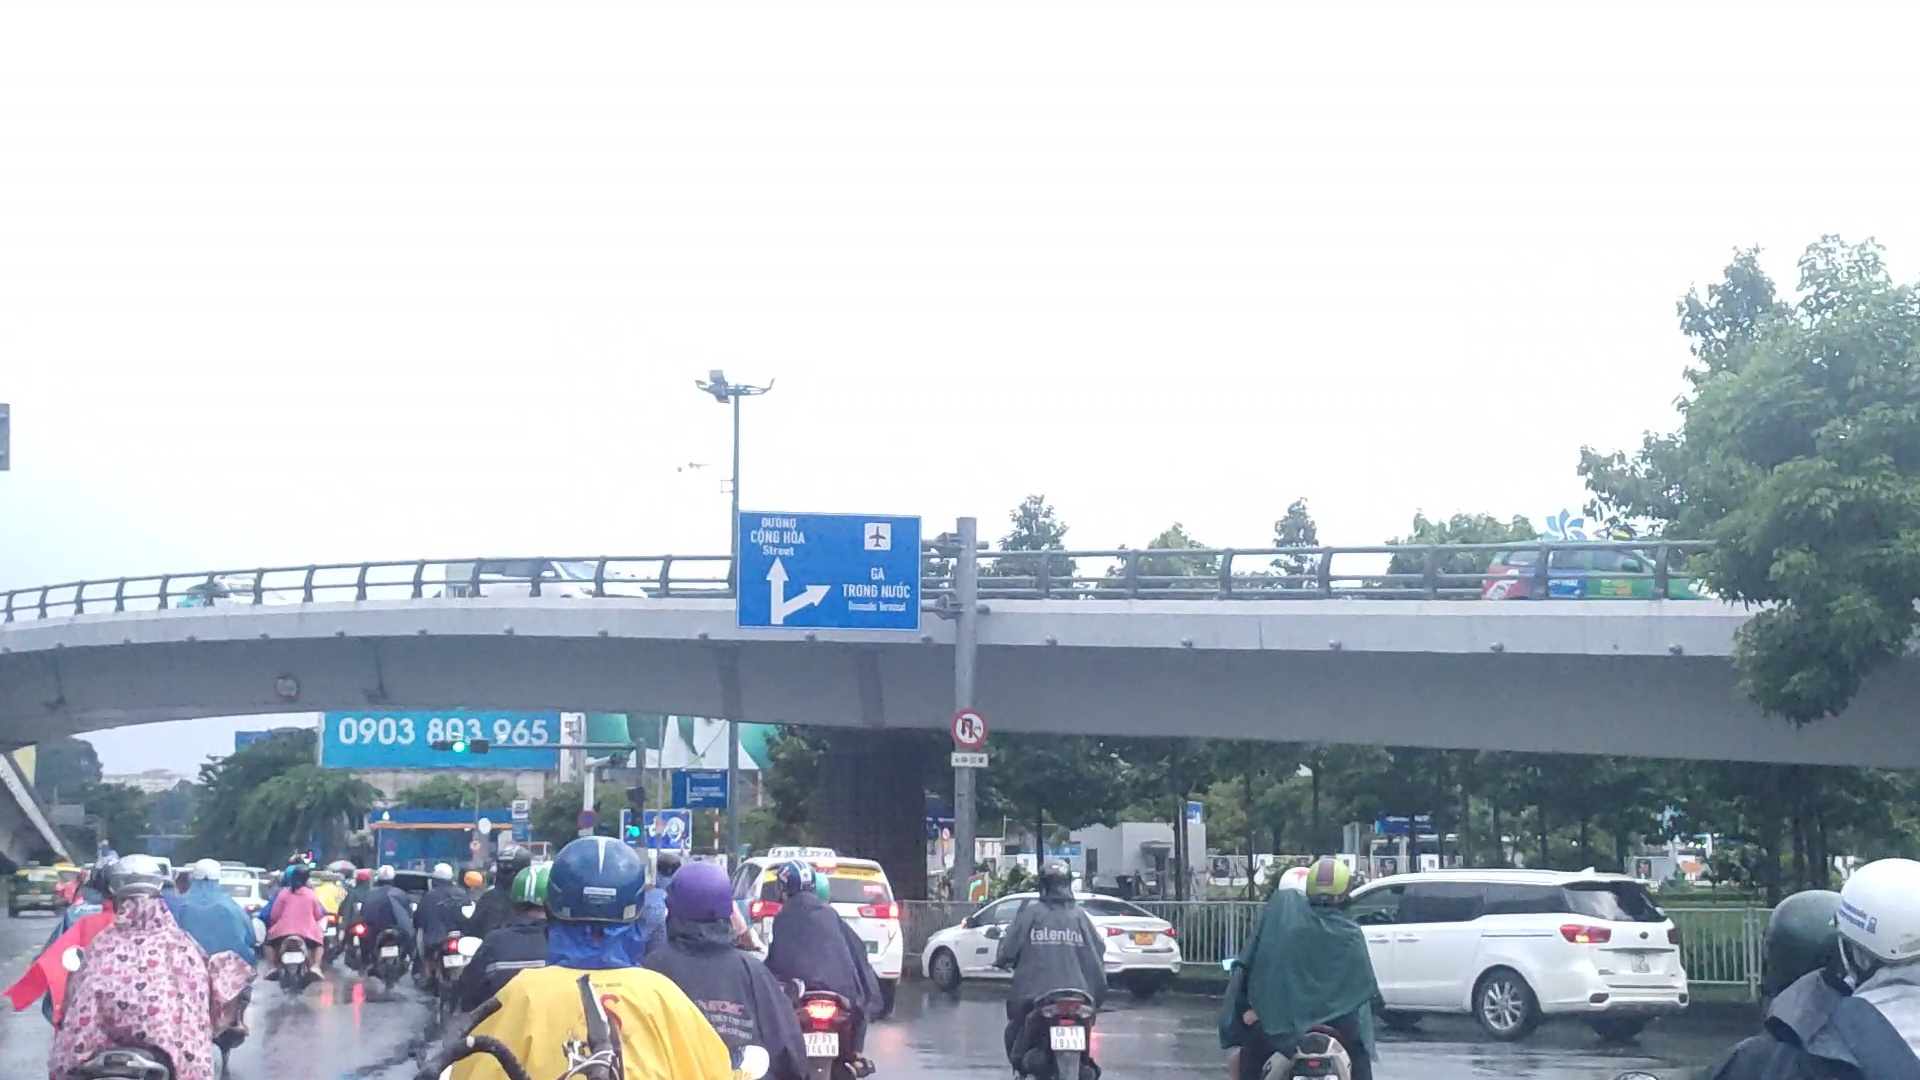P.124b1: (951, 709, 989, 750)
